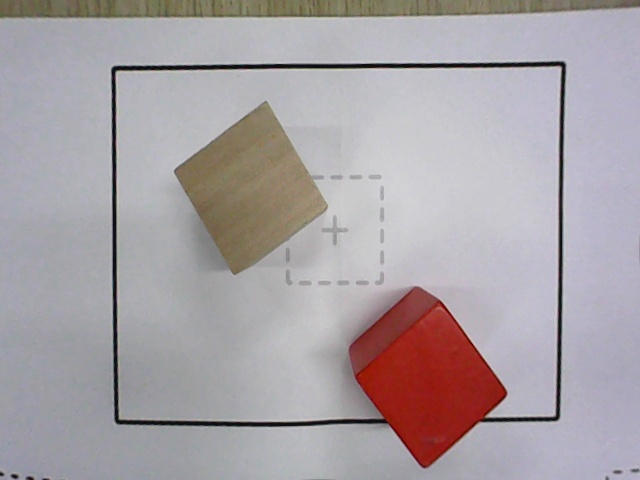upside of big cube: (172, 101, 328, 278), (355, 304, 508, 468)
